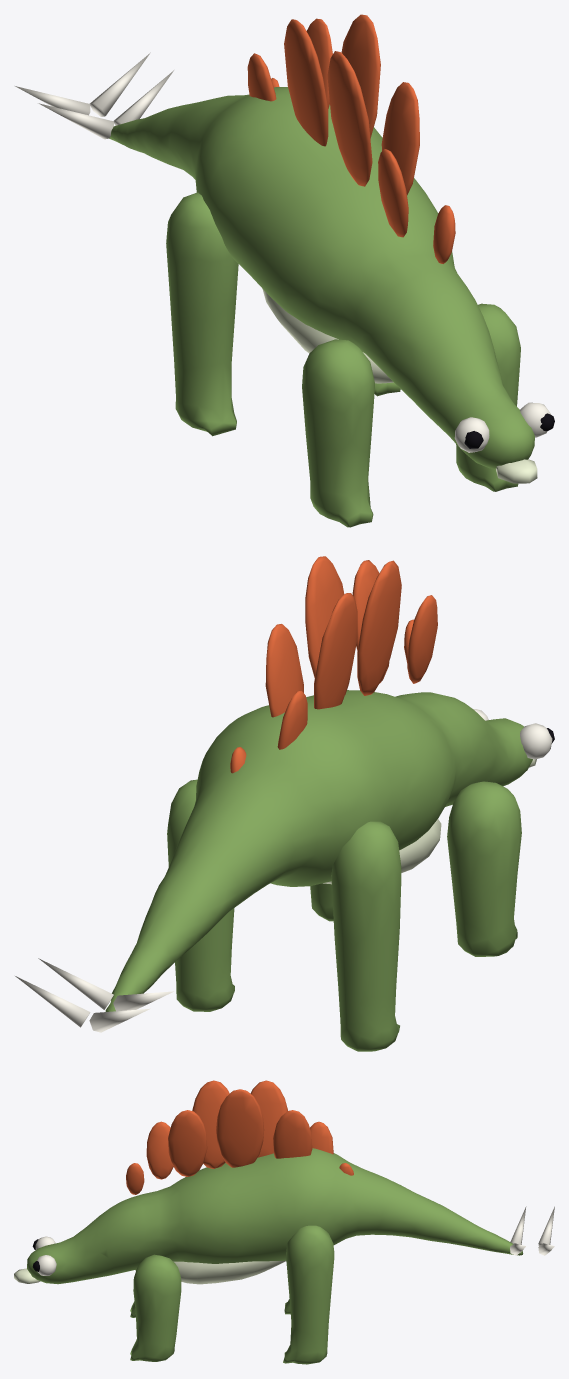
File: Dino_Stegosaurus.fbx
3 views of the same model, one above another, from view 1: azimuth 30°, elevation 25°; view 2: azimuth 150°, elevation 25°; view 3: azimuth 270°, elevation 25° (orthographic). The views are drawn at different scales.
Parts seen in each view (by area): view 1: Body, Accent, LegBL, LegFL, EyeWhite, LegFR, Belly; view 2: Body, Accent, LegBL, LegFL, LegBR, EyeWhite, Belly, LegFR; view 3: Body, Accent, LegBR, LegFR, Belly, EyeWhite.
Boxes of the visible parts, x1,y1,x2,y2 form: Body: (109, 87, 534, 468); Accent: (247, 14, 455, 263); LegBL: (166, 192, 238, 436); LegFL: (302, 339, 374, 527); EyeWhite: (15, 52, 551, 452); LegFR: (456, 303, 520, 491); Belly: (262, 289, 537, 483); Body: (105, 690, 532, 1011); Accent: (230, 556, 437, 773); LegBL: (331, 821, 401, 1051); LegFL: (447, 781, 521, 956); LegBR: (167, 779, 234, 1011); EyeWhite: (15, 709, 552, 1032); Belly: (323, 759, 536, 884); LegFR: (310, 883, 333, 921); Body: (27, 1148, 523, 1284); Accent: (126, 1080, 353, 1194); LegBR: (283, 1225, 334, 1364); LegFR: (130, 1254, 181, 1361); Belly: (14, 1260, 285, 1284); EyeWhite: (35, 1206, 554, 1275).
Size of the model in its own units: 2.47 by 4.43 by 8.5.
